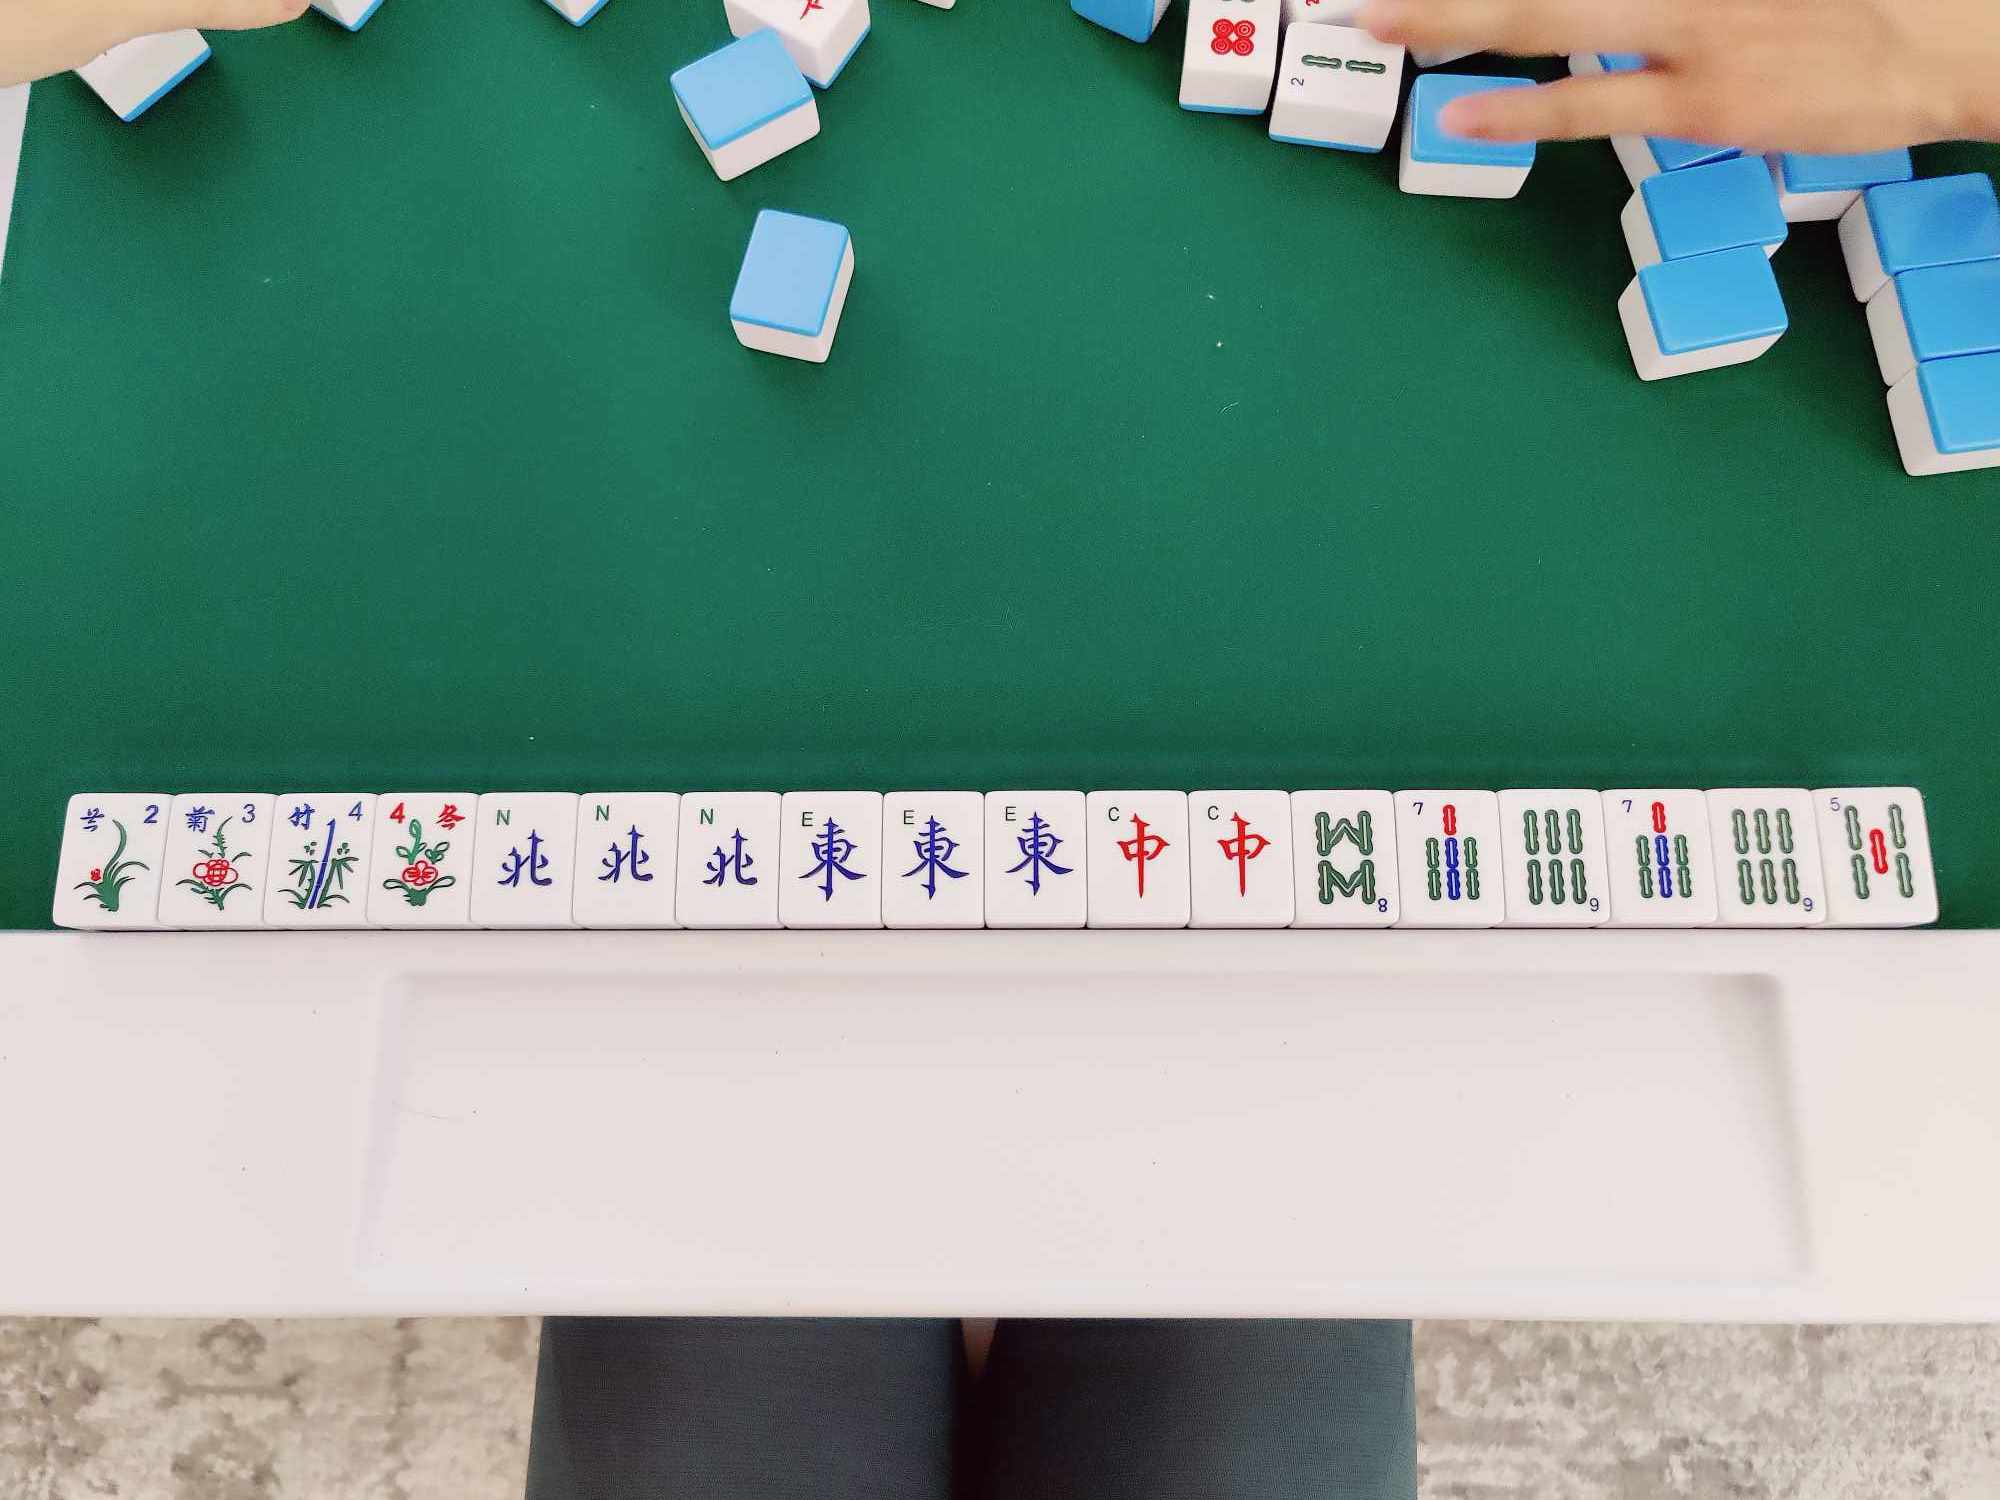bamboo-eight: (1298, 793, 1392, 923)
bamboo-five: (1824, 793, 1920, 915)
bamboo-seven: (1398, 793, 1496, 923), (1613, 793, 1704, 922)
bamboo-six: (1506, 791, 1600, 923), (1731, 788, 1816, 919)
flower-blue_four: (269, 796, 372, 925)
flower-blue_three: (167, 796, 268, 925)
flower-blue_two: (71, 796, 162, 922)
flower-red_four: (373, 796, 472, 922)
honor-east_wind: (781, 794, 880, 926), (987, 793, 1083, 925), (887, 794, 981, 926)
honor-north_wind: (680, 793, 780, 925), (476, 796, 573, 923), (576, 796, 672, 923)
honor-red_dragon: (1088, 794, 1184, 926), (1194, 796, 1288, 922)
